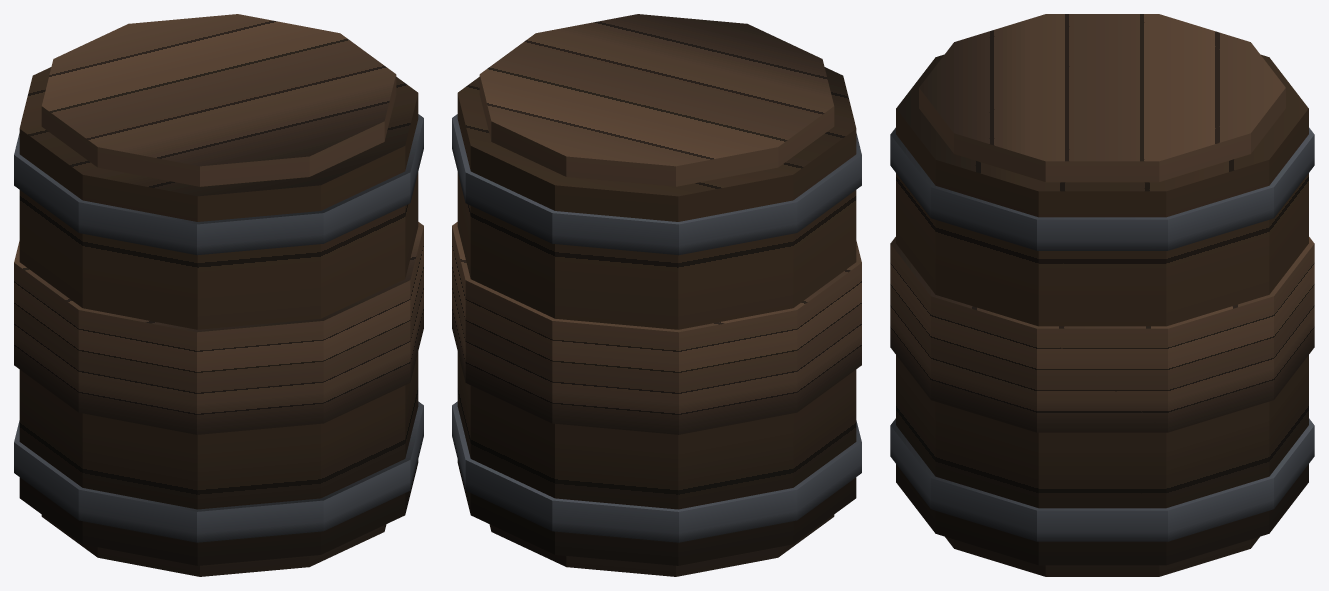
The model's file is barrel.gltf.
The picture shows the model from 3 angles, left to right: view 1: azimuth 30°, elevation 25°; view 2: azimuth 150°, elevation 25°; view 3: azimuth 270°, elevation 25°; orthographic projection.
Parts seen in each view (by area): view 1: barrel; view 2: barrel; view 3: barrel.
Part boxes in pixels (left/top/right/bottom): barrel: left=14, top=14, right=423, bottom=576; barrel: left=452, top=14, right=861, bottom=576; barrel: left=890, top=14, right=1314, bottom=576.
Size of the model in its own units: 0.3519 by 0.4 by 0.37.
Materials: 1 (1 with a texture image).
